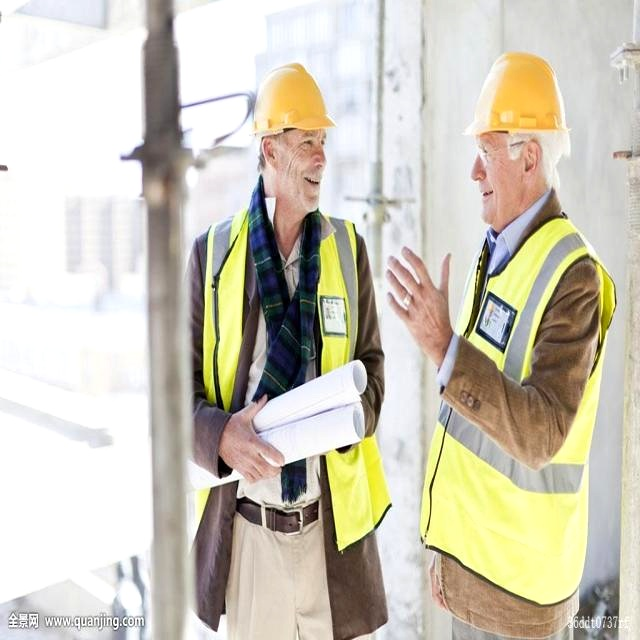Con_Casco: (259, 57, 326, 199)
Con_Chaleco: (197, 215, 387, 546), (434, 228, 590, 604)
